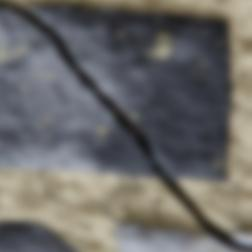brick: (0, 220, 77, 251)
broken_brick: (24, 5, 230, 181), (0, 7, 158, 177), (115, 220, 247, 251), (227, 230, 251, 245)
crack: (0, 0, 251, 251)
